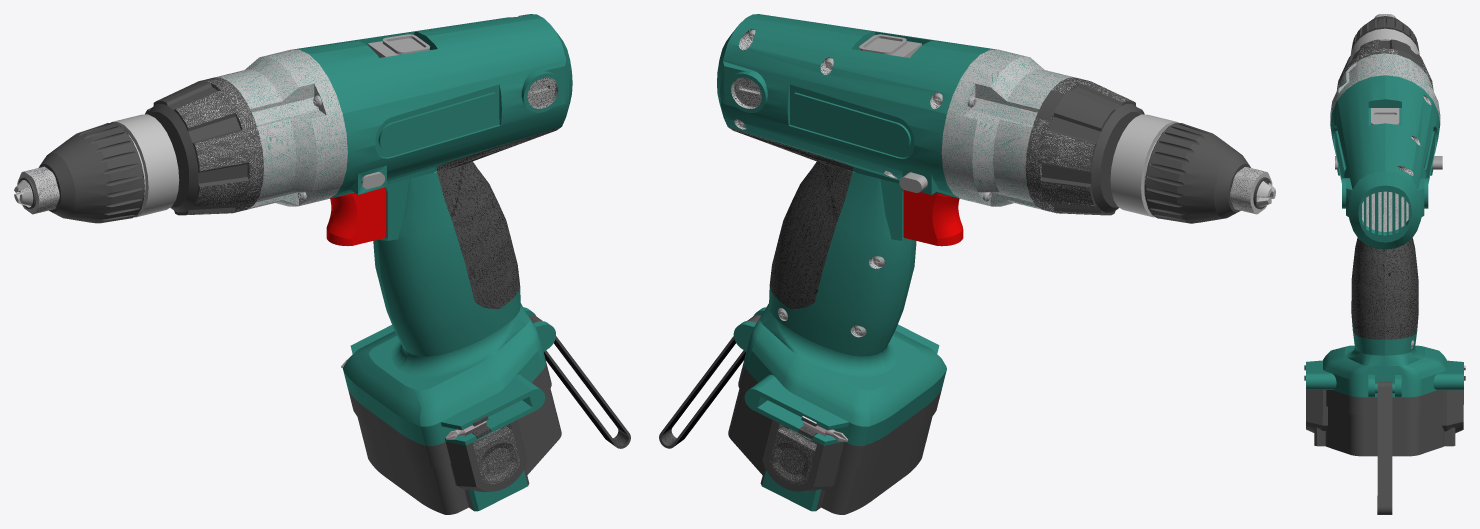
The picture shows the model from 3 angles, left to right: view 1: azimuth 30°, elevation 25°; view 2: azimuth 150°, elevation 25°; view 3: azimuth 270°, elevation 25°; orthographic projection. The views are drawn at different scales.
Parts seen in each view (by area): view 1: Agrupar_43 (×17); view 2: Agrupar_43 (×16); view 3: Agrupar_43 (×12).
Part boxes in pixels (x1,y1,x2,y2): Agrupar_43 (×17): [20, 14, 630, 514]; Agrupar_43 (×16): [659, 14, 1268, 514]; Agrupar_43 (×12): [1306, 16, 1463, 514].
Size of the model in its own units: 13.15 by 4.23 by 9.62.
